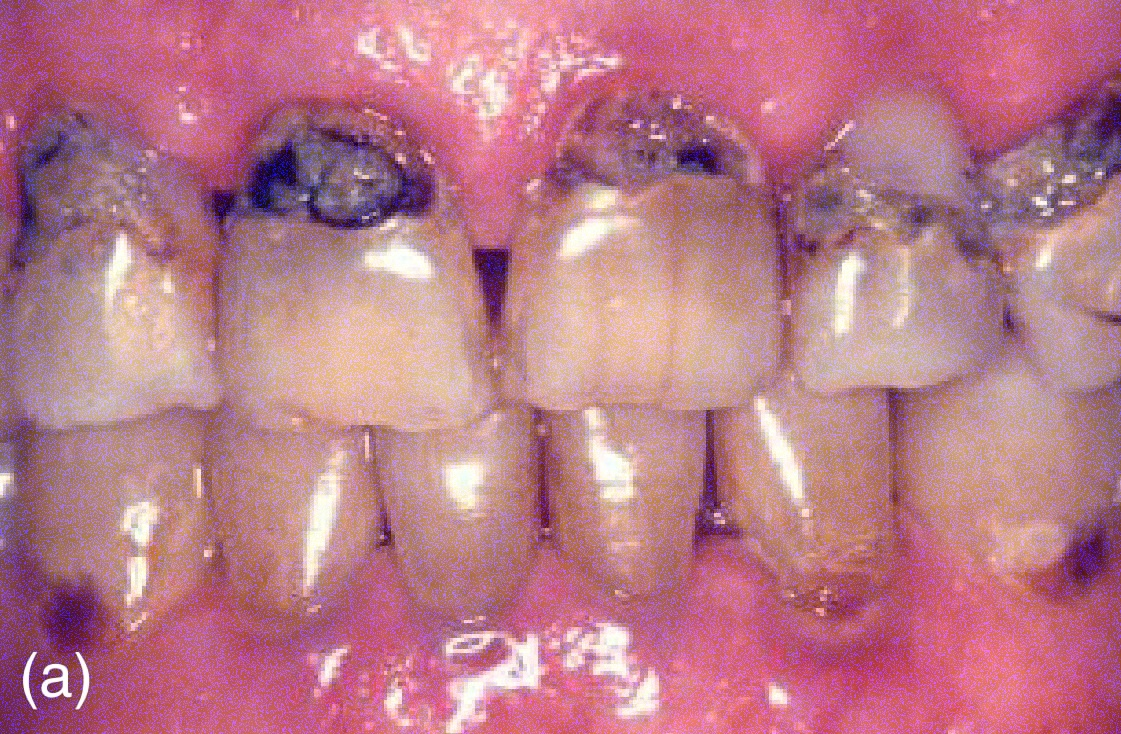karies: (1, 105, 203, 263), (217, 105, 445, 233), (545, 84, 751, 192), (786, 142, 960, 261), (985, 98, 1121, 226), (1015, 513, 1121, 620), (34, 574, 124, 665), (780, 565, 885, 632)
